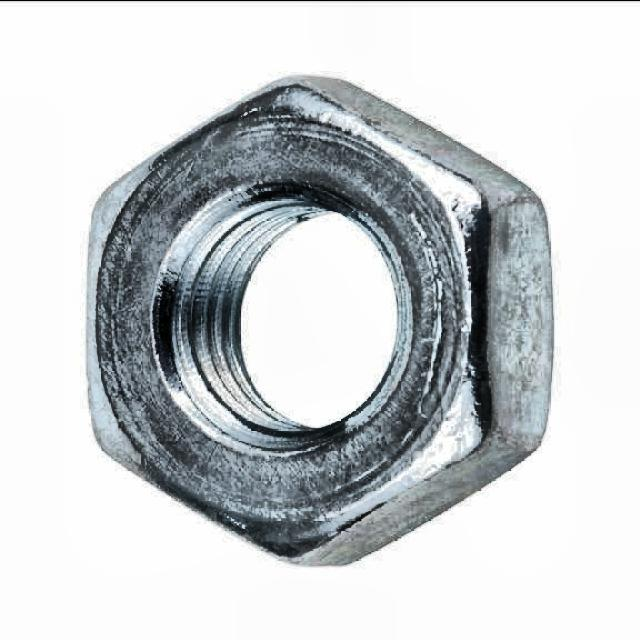Nut Detection - v1 Nut Dataset: (46, 45, 602, 589)
